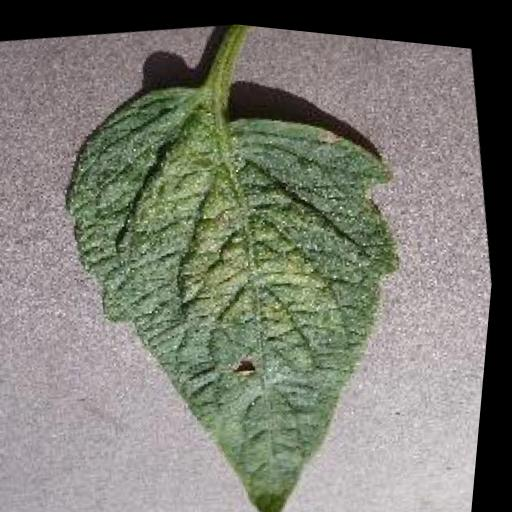Spider Mites: (27, 35, 465, 512)
